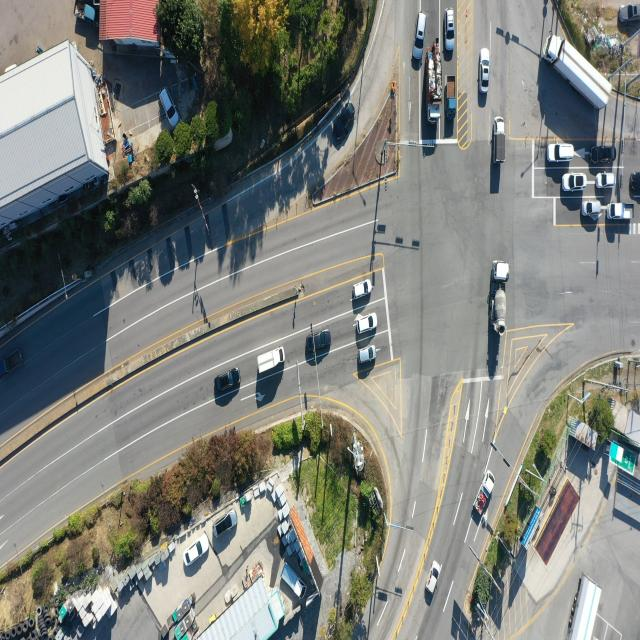car: (186, 528, 209, 570), (0, 349, 24, 379), (412, 8, 426, 59), (213, 368, 240, 394), (303, 331, 330, 357), (213, 509, 236, 538), (548, 142, 576, 163), (588, 145, 614, 165), (356, 312, 377, 335), (562, 173, 587, 192), (426, 560, 440, 593), (619, 2, 640, 22), (352, 279, 372, 300), (446, 10, 456, 51), (482, 50, 491, 94), (356, 345, 375, 365), (583, 201, 603, 217), (596, 173, 615, 189), (629, 172, 640, 192)
medium_truck: (545, 34, 610, 114), (567, 576, 601, 640), (491, 259, 509, 333), (426, 48, 441, 123)
small_truck: (474, 471, 496, 521), (257, 346, 286, 378), (282, 564, 308, 596), (161, 86, 180, 128), (72, 0, 96, 26), (494, 117, 506, 164), (445, 74, 457, 117), (610, 203, 635, 222)
